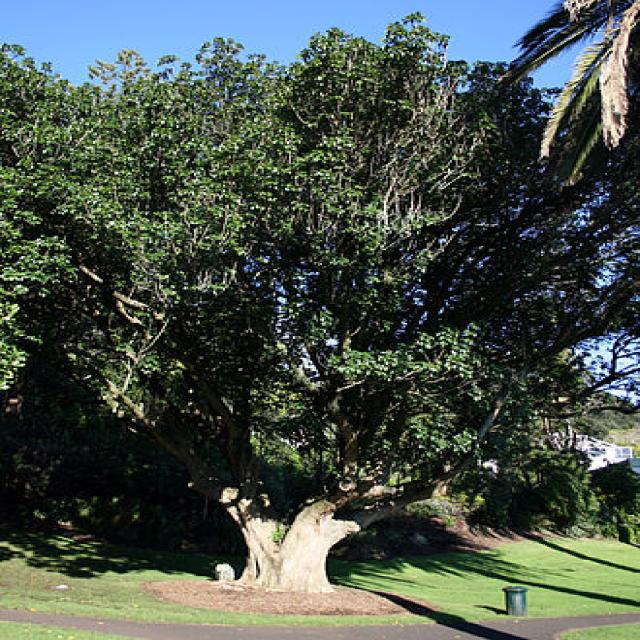Puriri: (9, 22, 630, 586)
